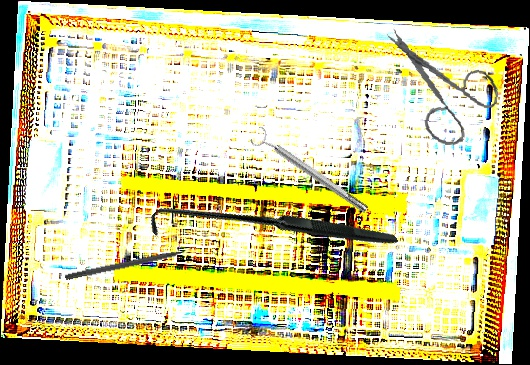Fixation Ring: (248, 124, 373, 220)
Hook Surgical: (144, 104, 399, 360), (64, 246, 199, 282)
Iris Scissors: (372, 27, 505, 151)
